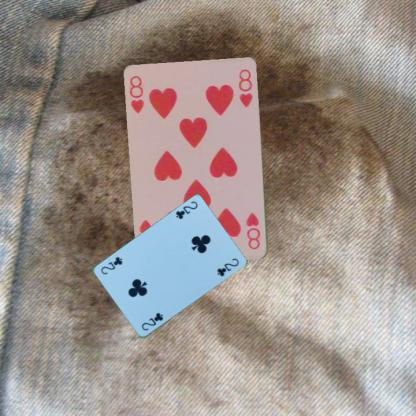2c: (173, 198, 199, 221), (139, 310, 164, 332)
8h: (127, 74, 146, 116), (244, 210, 262, 251)
